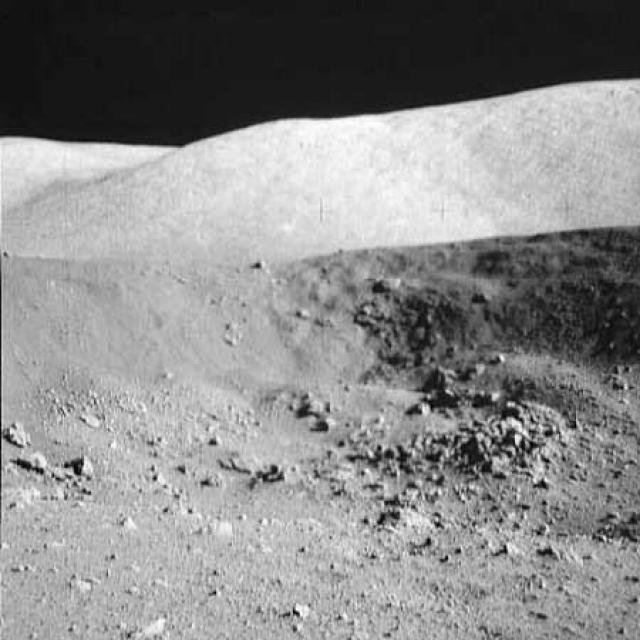rock: (376, 499, 436, 533), (215, 449, 262, 475), (3, 415, 35, 449), (11, 449, 50, 475), (296, 389, 326, 416), (73, 448, 100, 478), (370, 270, 402, 294), (262, 454, 282, 481), (409, 398, 433, 419), (318, 418, 337, 433)
